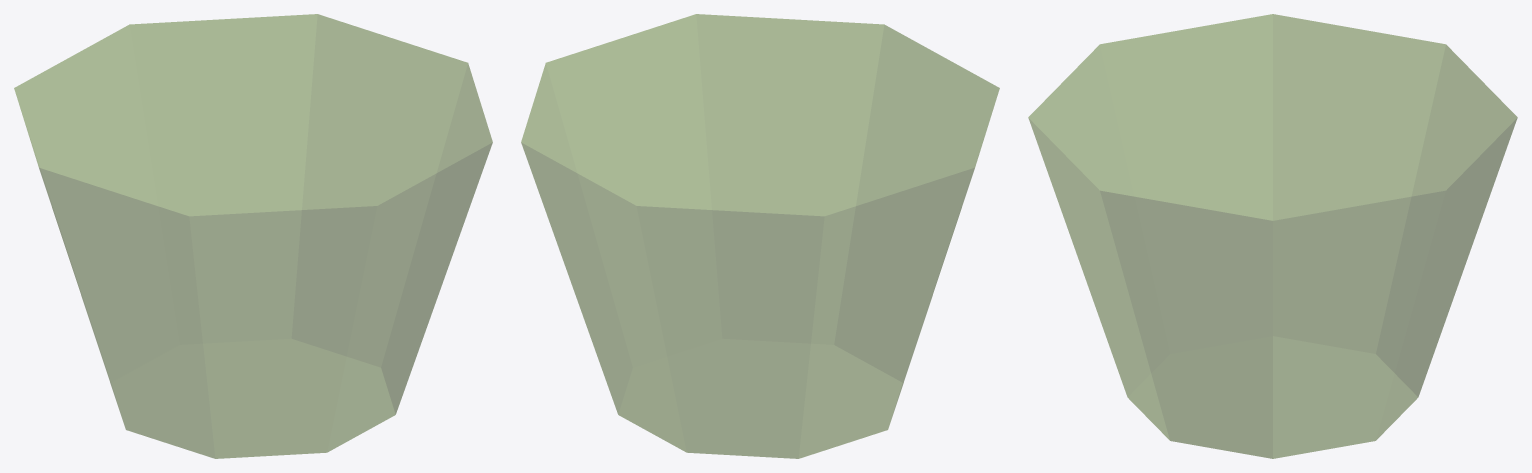
The model's file is table_round_01_COL.fbx.
3 renders of one model, left to right at view 1: azimuth 30°, elevation 25°; view 2: azimuth 150°, elevation 25°; view 3: azimuth 270°, elevation 25°, orthographic.
Parts seen in each view (by area): view 1: table_round_01_COL; view 2: table_round_01_COL; view 3: table_round_01_COL.
Boxes of the visible parts, x1,y1,x2,y2 form: table_round_01_COL: (14,14,492,458); table_round_01_COL: (521,14,999,458); table_round_01_COL: (1028,14,1517,458).
Bounding box in the file's own units: 176 × 111 × 176.
